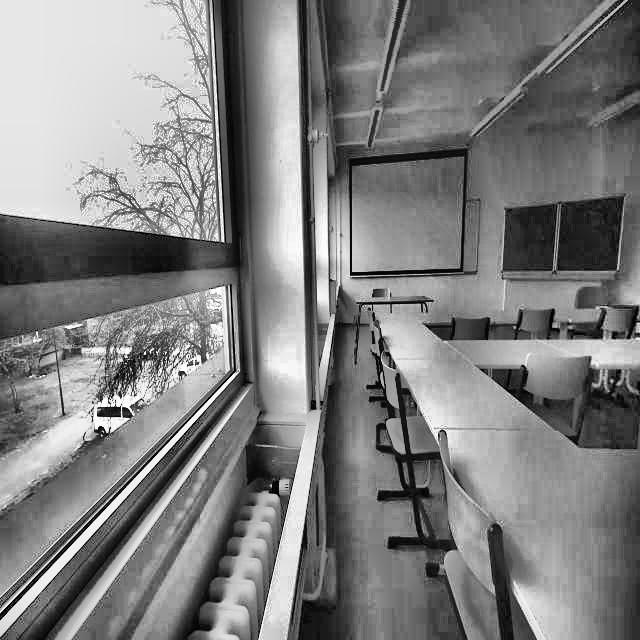ff: (10, 56, 279, 172)
